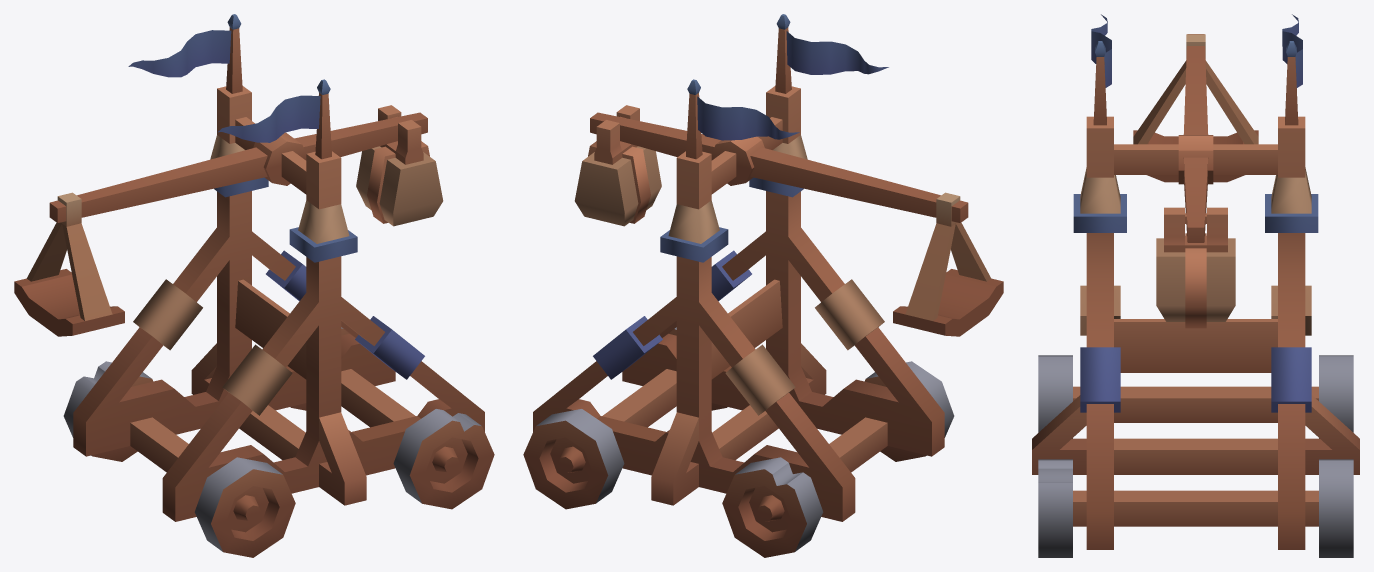
File: siege-trebuchet.glb
The picture shows the model from 3 angles, left to right: view 1: azimuth 30°, elevation 25°; view 2: azimuth 150°, elevation 25°; view 3: azimuth 270°, elevation 25°; orthographic projection. The views are drawn at different scales.
Parts seen in each view (by area): view 1: siege-trebuchet; view 2: siege-trebuchet; view 3: siege-trebuchet.
Part boxes in pixels (box(x1,y1,x2,y2)): siege-trebuchet: box(14, 14, 494, 557); siege-trebuchet: box(523, 14, 1003, 557); siege-trebuchet: box(1032, 14, 1359, 557).
Size of the model in its own units: 4.73 by 5 by 3.21.
